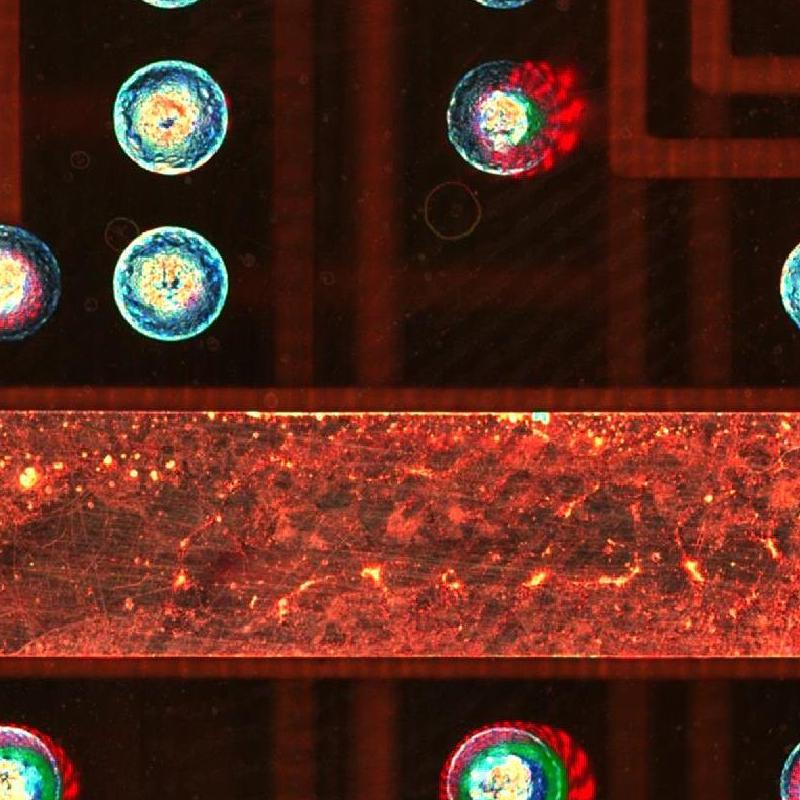bad: (434, 44, 586, 208), (103, 43, 248, 188), (103, 220, 249, 362), (6, 206, 76, 367), (762, 227, 800, 330)
